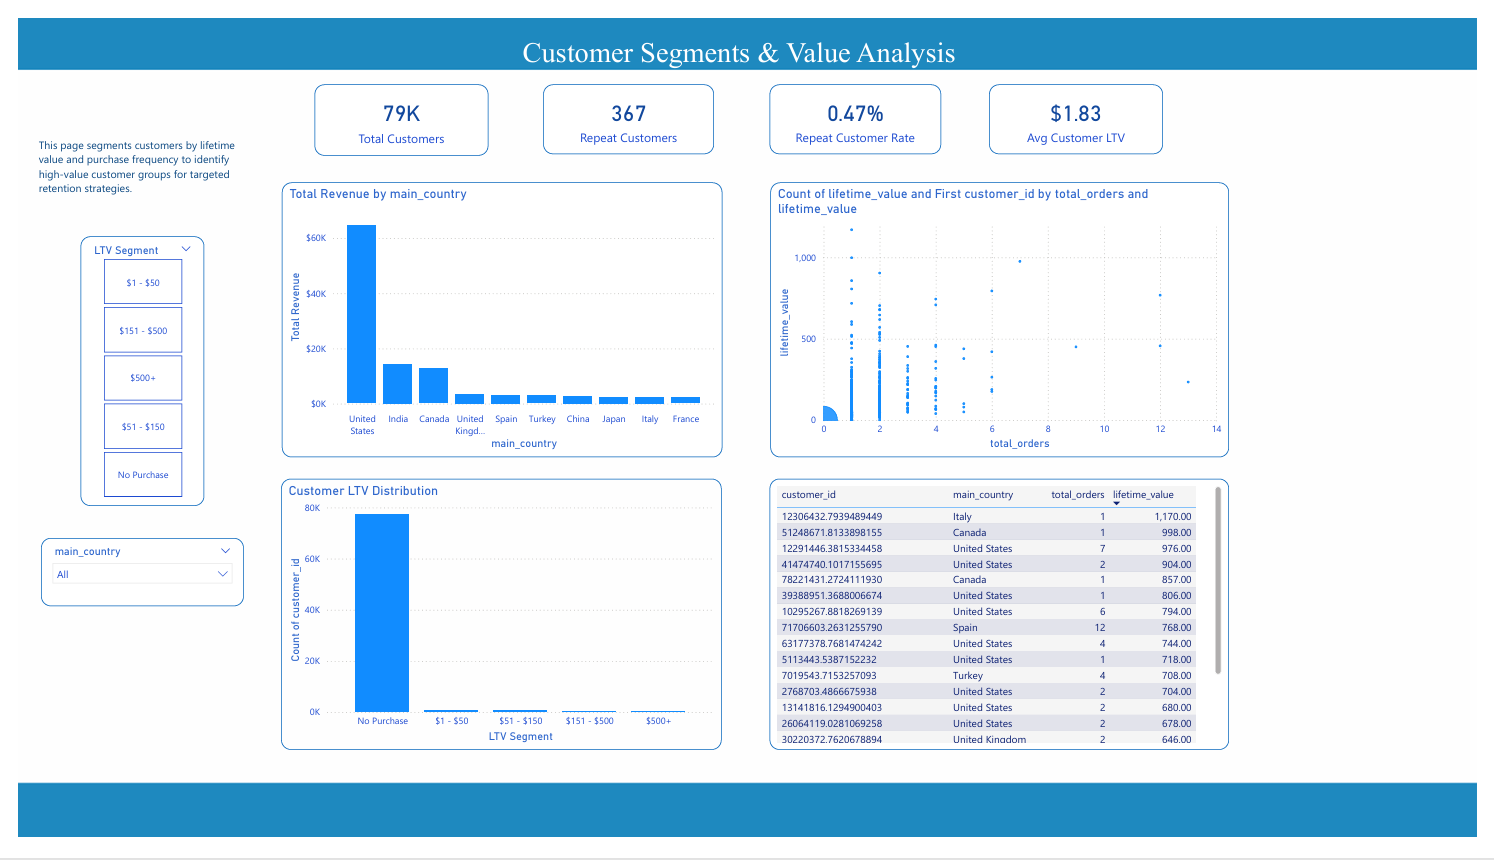

The dashboard page shown, as its layout file describes it:
{"tool":"powerbi","page":{"name":"Customer Segments & Value Analysis","canvas":[1920,1080],"ordinal":2},"visuals":[{"type":"textbox","box":[658.6,17.6,601.5,72.4],"z":0},{"type":"card","fields":{"Values":["_Measures.Total Customers"]},"box":[390.4,86.6,229,93.9],"z":1},{"type":"card","fields":{"Values":["_Measures.Repeat Customers"]},"box":[691.3,86.6,224.6,92.5],"z":2},{"type":"card","fields":{"Values":["_Measures.Repeat Customer Rate"]},"box":[989.3,86.6,226,92.5],"z":3},{"type":"card","fields":{"Values":["_Measures.Avg Customer LTV"]},"box":[1278.4,86.6,229,92.5],"z":4},{"type":"clusteredColumnChart","fields":{"Category":["marts dim_customers.main_country"],"Y":["_Measures.Total Revenue"]},"box":[347,216.4,579.9,361.8],"z":5},{"type":"scatterChart","fields":{"X":["marts dim_customers.total_orders"],"Y":["marts dim_customers.lifetime_value"],"Size":["CountNonNull(marts dim_customers.lifetime_value)"]},"box":[989.7,216.4,604.7,361.8],"z":6},{"type":"tableEx","fields":{"Values":["marts dim_customers.customer_id","marts dim_customers.main_country","marts dim_customers.total_orders","marts dim_customers.lifetime_value"]},"box":[989.3,606.2,604.7,356.7],"z":7},{"type":"slicer","fields":{"Values":["marts dim_customers.main_country"]},"box":[29.9,684.1,267.3,89.8],"z":8},{"type":"textbox","box":[21.7,152.2,285.1,106.3],"z":9},{"type":"clusteredColumnChart","title":"Customer LTV Distribution","fields":{"Category":["marts dim_customers.LTV Segment"],"Y":["CountNonNull(marts dim_customers.customer_id)"]},"box":[346.4,606.2,579.8,356.7],"z":10},{"type":"slicer","fields":{"Values":["marts dim_customers.LTV Segment"]},"box":[81.8,287.2,163.6,355],"z":11}]}

Visuals, with their boxes in screenshot pixels (x1, y1, x2, y2), scaled from the page's 1920x1080 canvas onto the 1494x860 screenshot:
textbox: region(512, 14, 981, 72)
card - _Measures.Total Customers: region(304, 69, 482, 144)
card - _Measures.Repeat Customers: region(538, 69, 713, 143)
card - _Measures.Repeat Customer Rate: region(770, 69, 946, 143)
card - _Measures.Avg Customer LTV: region(995, 69, 1173, 143)
clusteredColumnChart - marts dim_customers.main_country x _Measures.Total Revenue: region(270, 172, 721, 460)
scatterChart - marts dim_customers.total_orders x marts dim_customers.lifetime_value: region(770, 172, 1241, 460)
tableEx - marts dim_customers.customer_id x marts dim_customers.main_country: region(770, 483, 1240, 767)
slicer - marts dim_customers.main_country: region(23, 545, 231, 616)
textbox: region(17, 121, 239, 206)
"Customer LTV Distribution" clusteredColumnChart: region(270, 483, 721, 767)
slicer - marts dim_customers.LTV Segment: region(64, 229, 191, 511)
